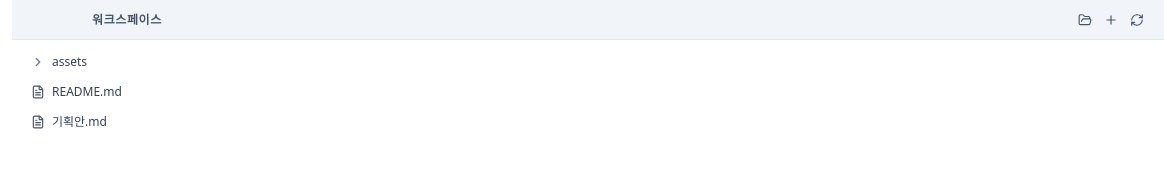
디렉터리 우클릭 메뉴는 "새 문서"/"새 ERD 문서"/"새 폴더"를 보여준다
Right-click the text "assets" at (70, 62), box [52,53,87,70]
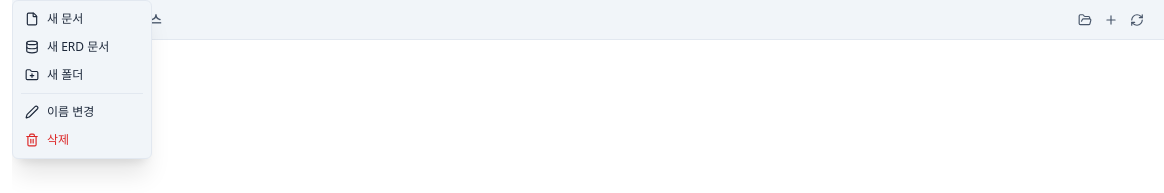
Expected: the text "새 문서" is shown, [47,11,83,27]
Expected: the text "새 ERD 문서" is shown, [47,39,109,55]
Expected: the text "새 폴더" is shown, [47,67,83,83]
